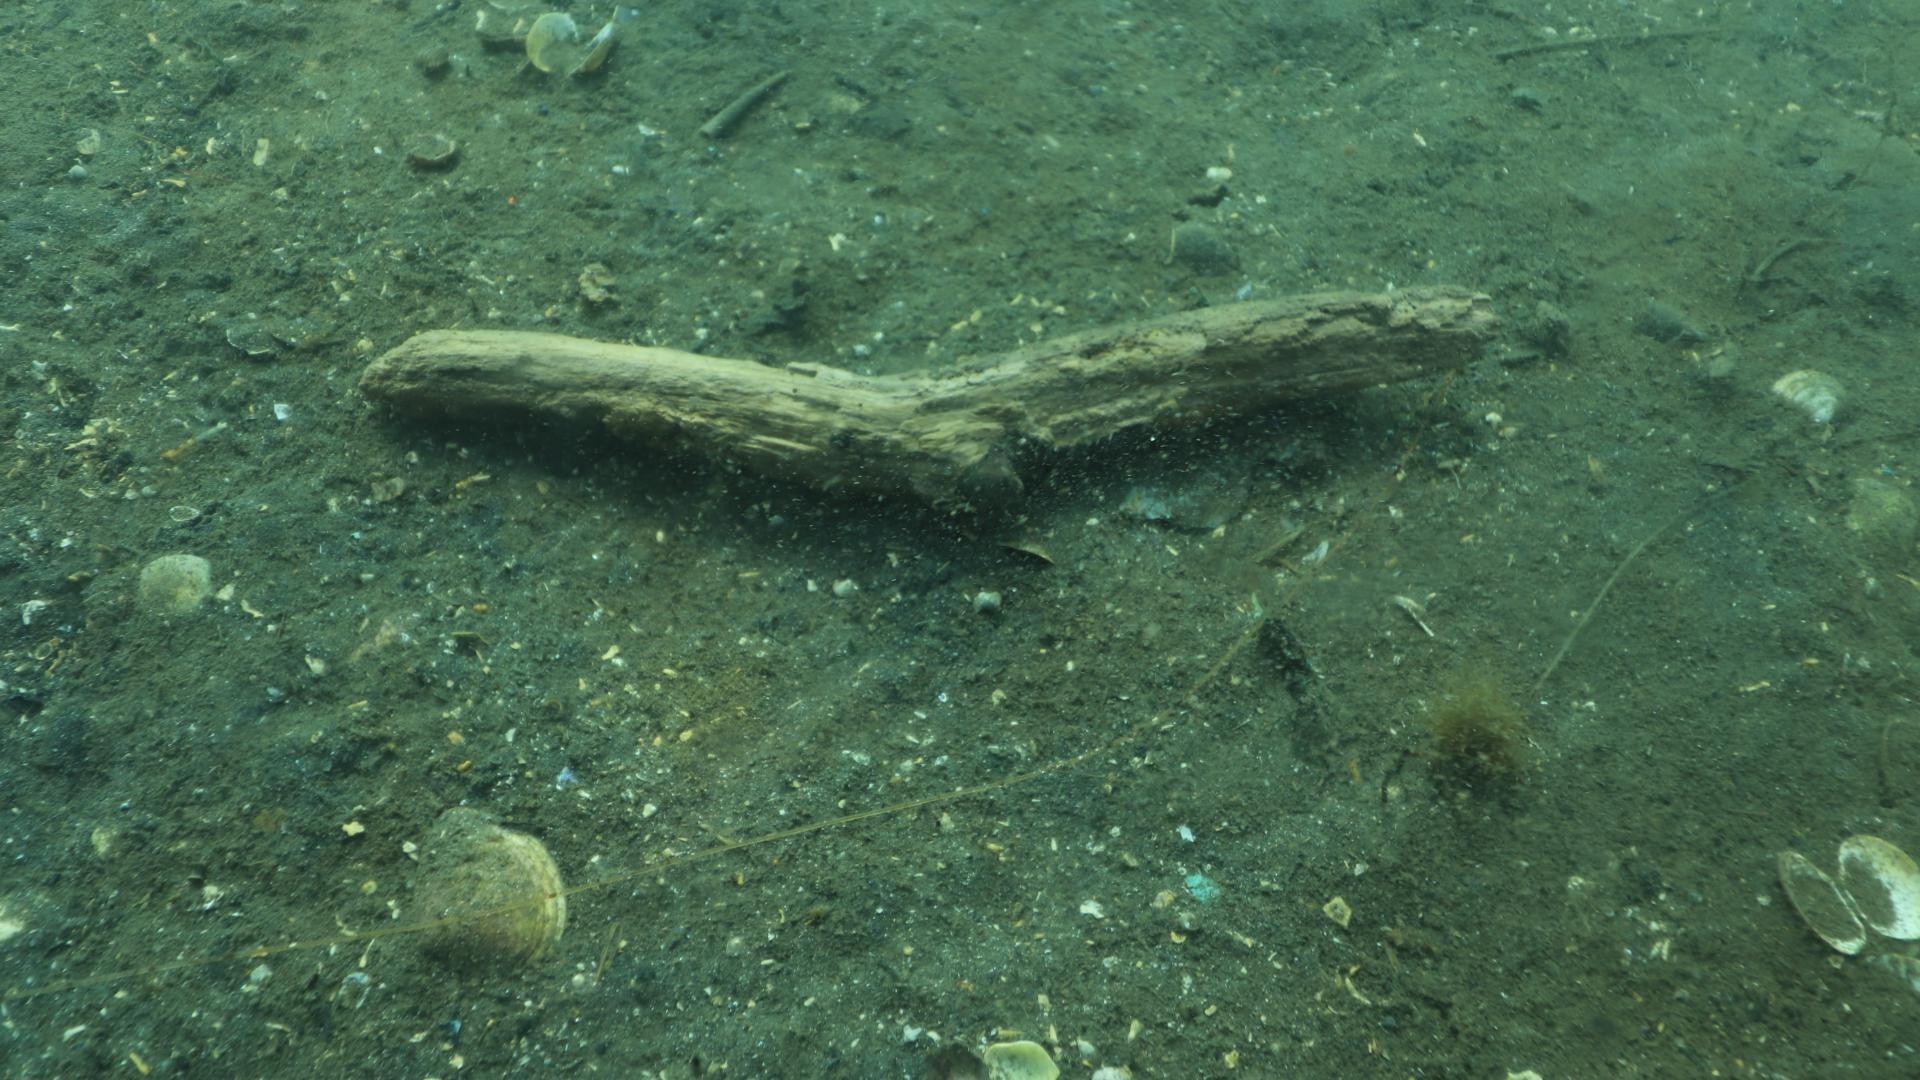wood: (353, 281, 1510, 504)
